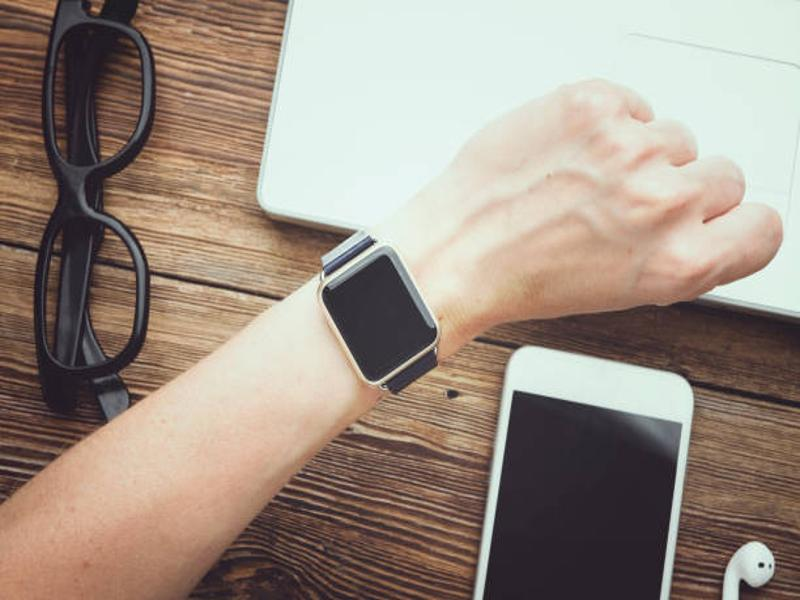watch: (313, 230, 443, 394)
